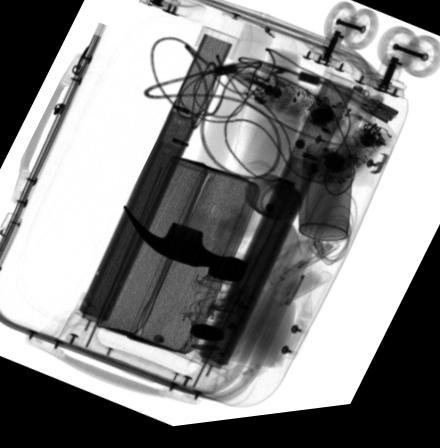Hammer: (120, 29, 275, 289)
